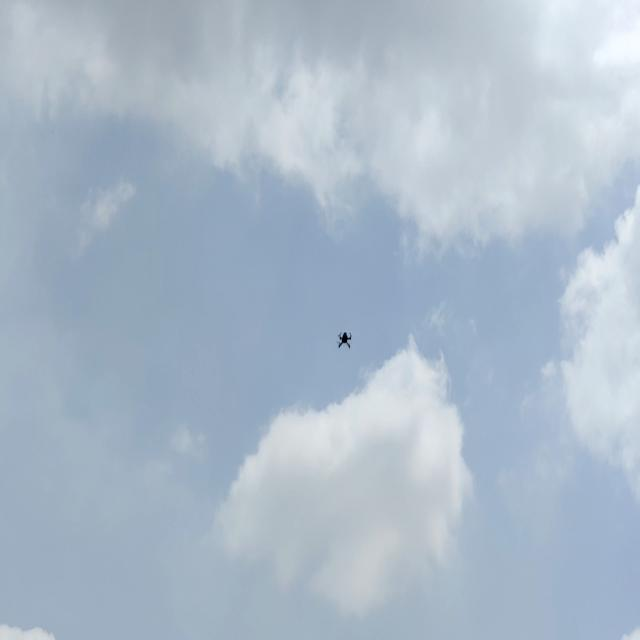drone: (335, 327, 358, 352)
